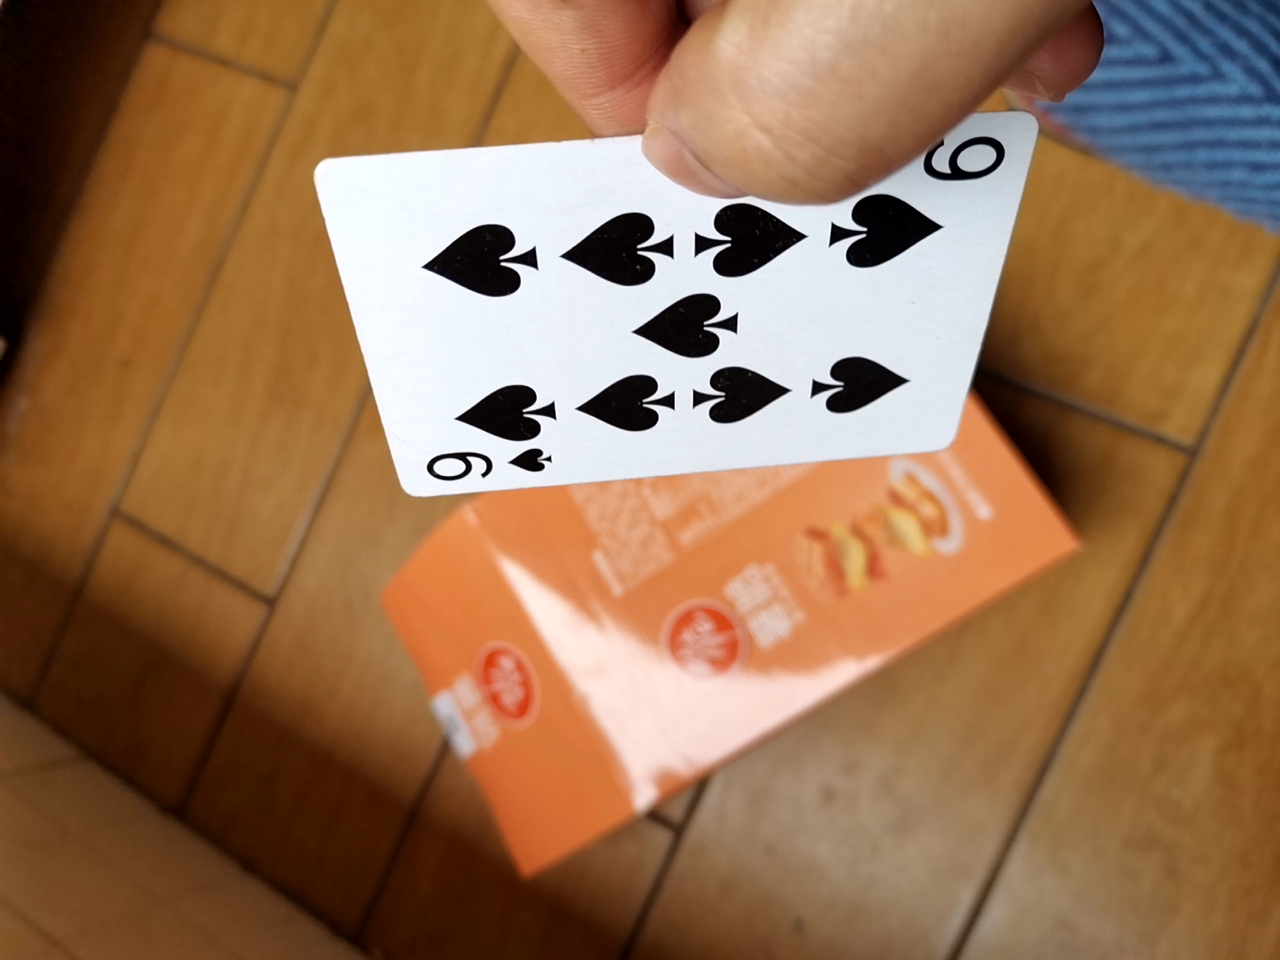ht 9: (322, 130, 1027, 487)
